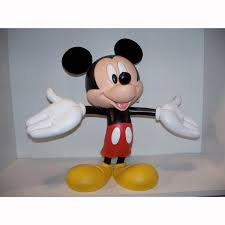Mickey: (61, 35, 147, 112)
